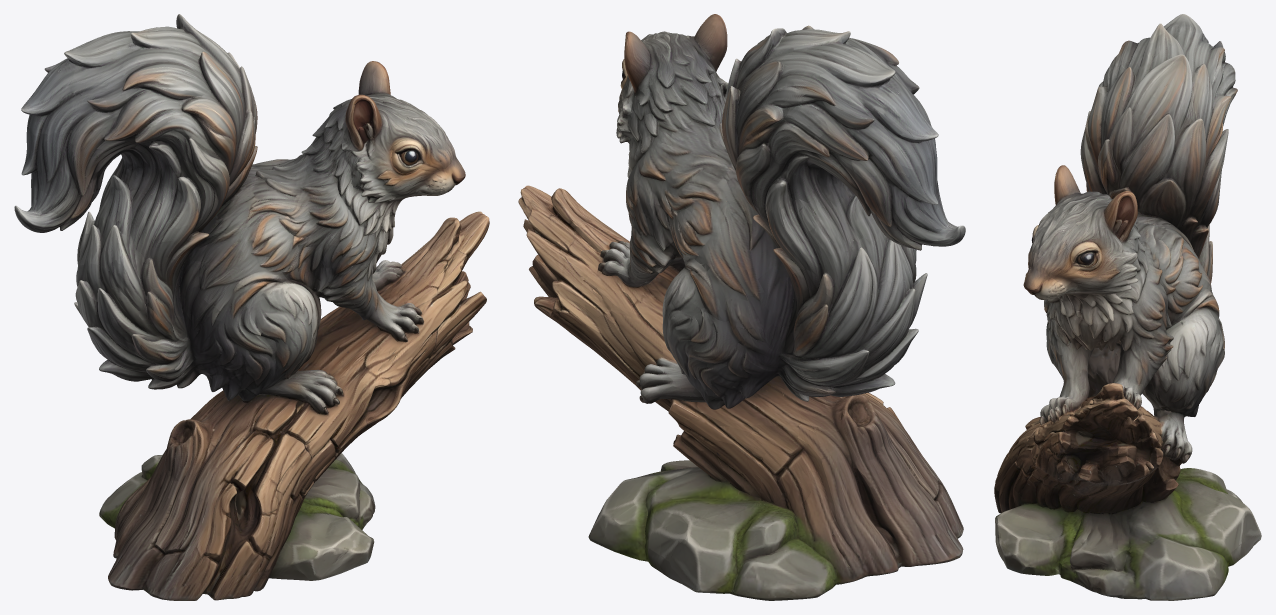
Rendered from Grey_Squirrel.glb.
The picture shows the model from 3 angles, left to right: view 1: azimuth 30°, elevation 25°; view 2: azimuth 150°, elevation 25°; view 3: azimuth 270°, elevation 25°; orthographic projection. The views are drawn at different scales.
Parts seen in each view (by area): view 1: output_unwrapped; view 2: output_unwrapped; view 3: output_unwrapped.
Part boxes in pixels (x1,y1,x2,y2): output_unwrapped: (14, 14, 489, 600); output_unwrapped: (518, 14, 965, 600); output_unwrapped: (994, 14, 1261, 600).
Size of the model in its own units: 1.73 by 1.9 by 0.9679.
1 material, 1 textured.
